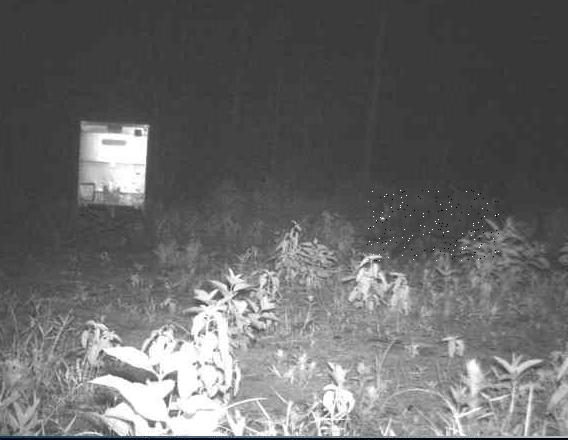Hog: (363, 191, 501, 262)
